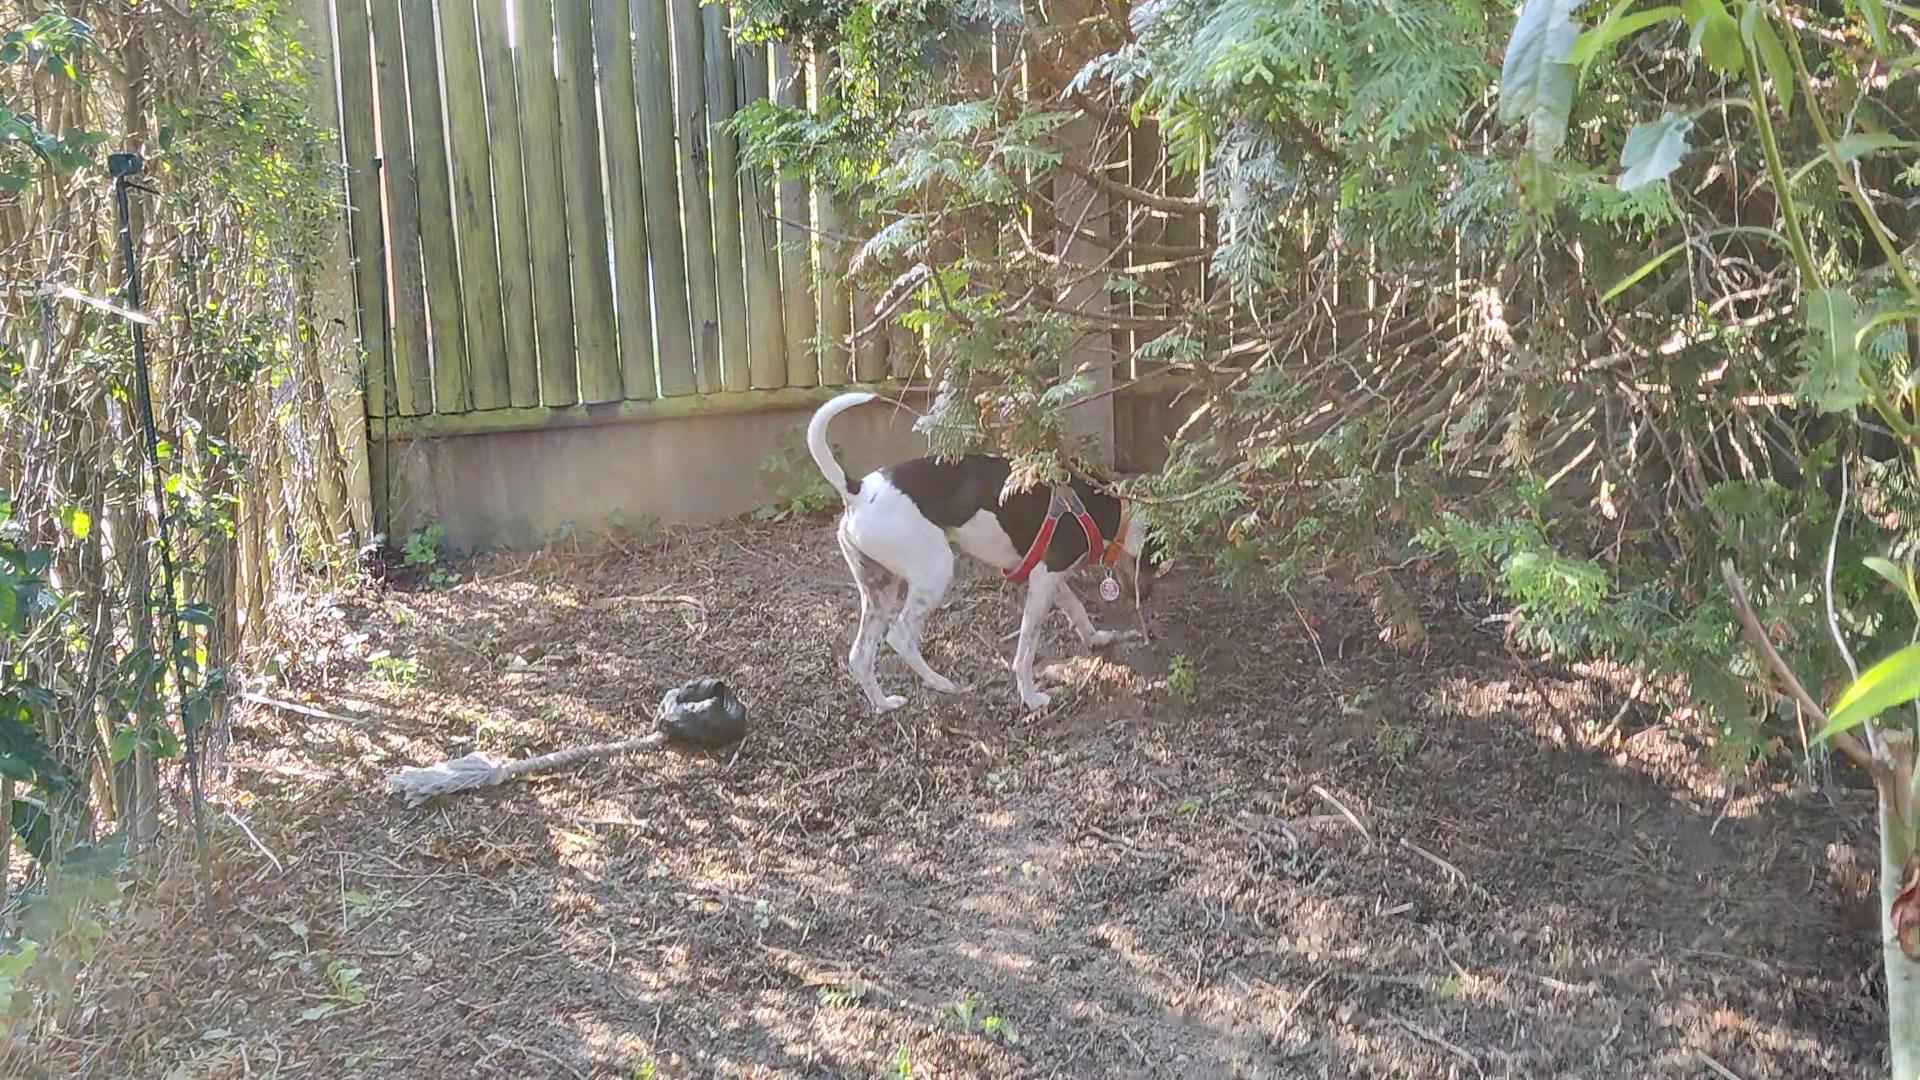Dog: (786, 380, 1175, 713)
